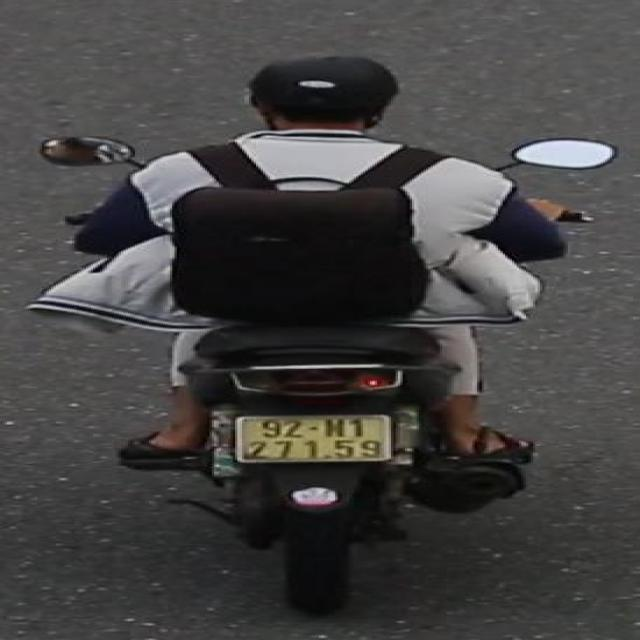LP: (225, 402, 399, 468)
helmet: (219, 48, 421, 142)
